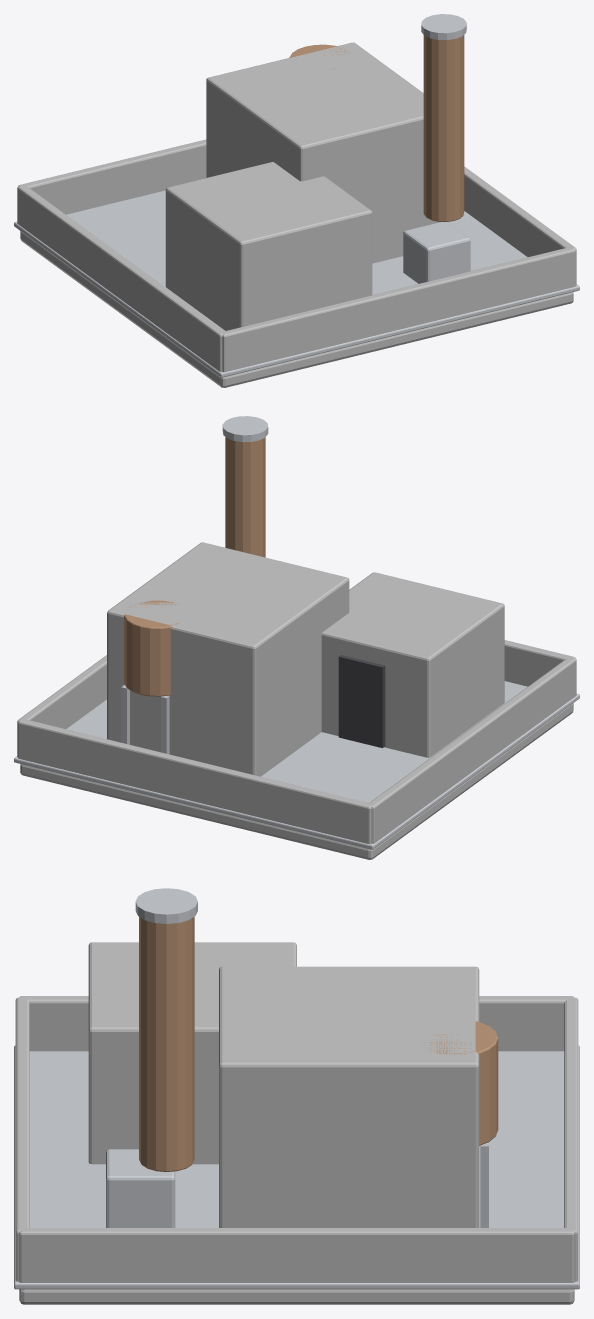
Rendered from roof_3x3_boiler_concrete.glb.
The picture shows the model from 3 angles, top to bottom: view 1: azimuth 30°, elevation 25°; view 2: azimuth 150°, elevation 25°; view 3: azimuth 270°, elevation 25°; orthographic projection. The views are drawn at different scales.
Parts seen in each view (by area): view 1: ext_parapet, ext_boiler, ext_penthouse, int_slab_edge, ext_stack, int_slab, ext_ac, ext_stack_top; view 2: ext_boiler, ext_parapet, ext_penthouse, int_slab_edge, int_slab, ext_stack, ext_penthouse_door, ext_tank, ext_tank_legs, ext_stack_top; view 3: ext_boiler, ext_parapet, int_slab_edge, ext_penthouse, ext_stack, int_slab, ext_ac, ext_tank, ext_stack_top, ext_tank_legs.
Boxes of the visible parts, x1,y1,x2,y2 form: ext_parapet: (17,139,576,372); ext_boiler: (206,42,448,263); ext_penthouse: (165,162,372,330); int_slab_edge: (14,190,579,377); ext_stack: (423,35,464,221); int_slab: (20,231,573,387); ext_ac: (403,222,470,283); ext_stack_top: (421,14,466,39); ext_boiler: (107,542,349,776); ext_parapet: (17,640,576,844); ext_penthouse: (321,572,504,757); int_slab_edge: (14,681,579,849); int_slab: (20,703,573,859); ext_stack: (225,437,265,557); ext_penthouse_door: (338,655,385,747); ext_tank: (124,600,179,696); ext_tank_legs: (121,685,169,754); ext_stack_top: (222,416,268,442); ext_boiler: (219,966,479,1227); ext_parapet: (15,996,578,1282); int_slab_edge: (14,1045,579,1289); ext_penthouse: (88,942,296,1164); ext_stack: (139,917,194,1171); int_slab: (19,1289,574,1304); ext_ac: (106,1149,175,1227); ext_tank: (421,1021,498,1145); ext_stack_top: (135,888,197,923); ext_tank_legs: (480,1142,488,1227).
Bounding box in the file's own units: 3.26 × 2.25 × 3.26.
